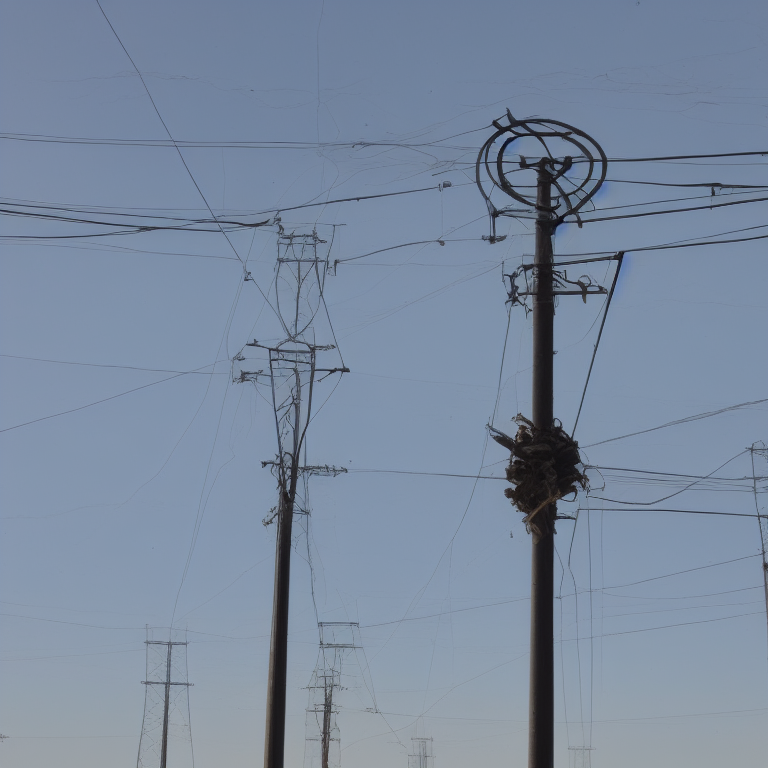nest: (498, 425, 586, 509)
